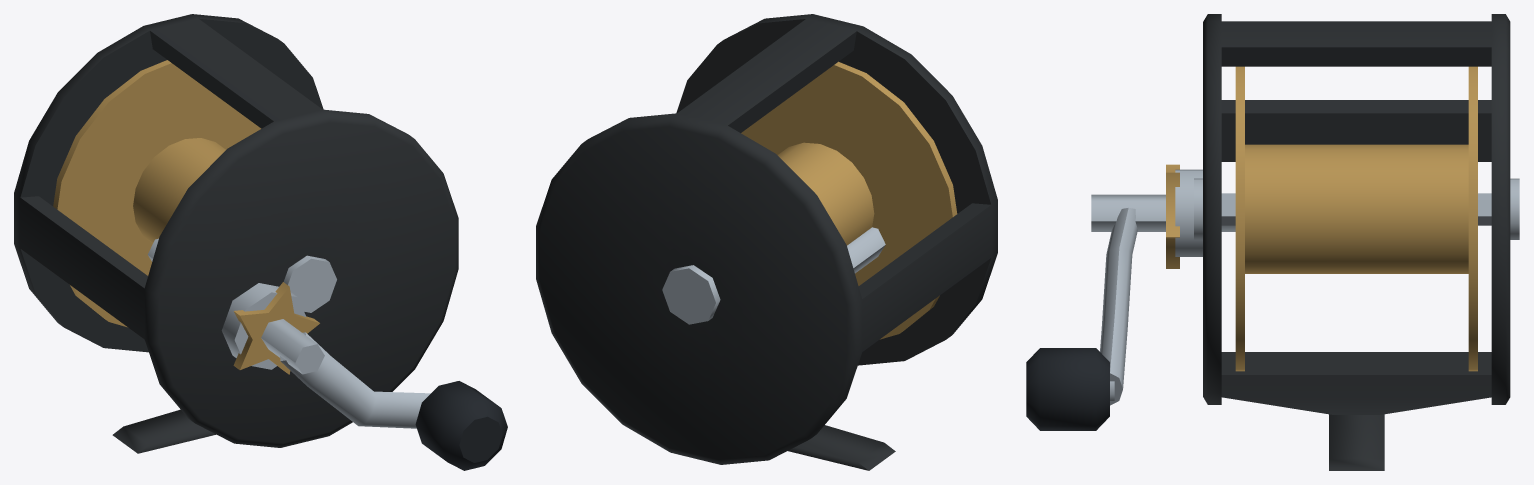
Rendered from reel_05_conventional_star.glb.
3 renders of one model, left to right at view 1: azimuth 30°, elevation 25°; view 2: azimuth 150°, elevation 25°; view 3: azimuth 270°, elevation 25°, orthographic. The views are drawn at different scales.
Parts seen in each view (by area): view 1: 05_conventional_star__Continuous_frame_and_foot, 05_conventional_star__Empty_spool, 05_conventional_star__Grip_0, 05_conventional_star__Crank_casting, 05_conventional_star__Star_drag_adjuster, 05_conventional_star__Crank_drive_shaft, 05_conventional_star__Spool_bearing_seats, 05_conventional_star__Drive_bearing_boss; view 2: 05_conventional_star__Continuous_frame_and_foot, 05_conventional_star__Empty_spool, 05_conventional_star__Spool_bearing_seats, 05_conventional_star__Crank_drive_shaft; view 3: 05_conventional_star__Continuous_frame_and_foot, 05_conventional_star__Empty_spool, 05_conventional_star__Grip_0, 05_conventional_star__Crank_casting, 05_conventional_star__Crank_drive_shaft, 05_conventional_star__Drive_bearing_boss, 05_conventional_star__Star_drag_adjuster, 05_conventional_star__Spool_bearing_seats, 05_conventional_star__Spool_support_axle.
Boxes of the visible parts, x1,y1,x2,y2 form: 05_conventional_star__Continuous_frame_and_foot: (14,14,458,453); 05_conventional_star__Empty_spool: (53,60,261,327); 05_conventional_star__Grip_0: (415,381,507,470); 05_conventional_star__Crank_casting: (280,332,430,428); 05_conventional_star__Star_drag_adjuster: (233,282,319,374); 05_conventional_star__Crank_drive_shaft: (147,238,324,374); 05_conventional_star__Spool_bearing_seats: (283,255,336,312); 05_conventional_star__Drive_bearing_boss: (221,283,306,369); 05_conventional_star__Continuous_frame_and_foot: (536,14,997,470); 05_conventional_star__Empty_spool: (741,61,957,339); 05_conventional_star__Spool_bearing_seats: (662,265,720,324); 05_conventional_star__Crank_drive_shaft: (847,227,885,273); 05_conventional_star__Continuous_frame_and_foot: (1203,14,1510,470); 05_conventional_star__Empty_spool: (1235,66,1477,371); 05_conventional_star__Grip_0: (1026,348,1109,430); 05_conventional_star__Crank_casting: (1100,207,1137,405); 05_conventional_star__Crank_drive_shaft: (1091,194,1235,231); 05_conventional_star__Drive_bearing_boss: (1175,169,1202,256); 05_conventional_star__Star_drag_adjuster: (1166,164,1179,268); 05_conventional_star__Spool_bearing_seats: (1194,178,1519,239); 05_conventional_star__Spool_support_axle: (1221,193,1491,225).
Bounding box in the file's own units: 0.083 × 0.0895 × 0.106.
